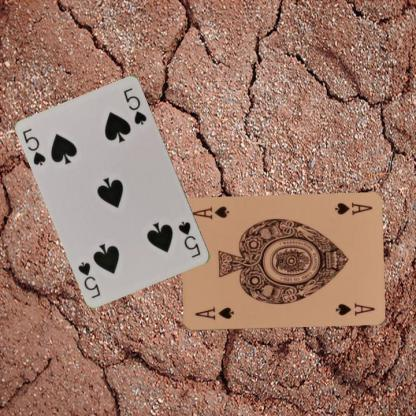5s: (20, 126, 48, 168), (176, 219, 202, 259)
As: (192, 305, 234, 321), (332, 201, 373, 217)
